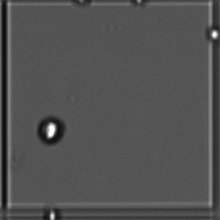Living Cell: (34, 115, 69, 150), (128, 1, 153, 9), (70, 1, 93, 6)
